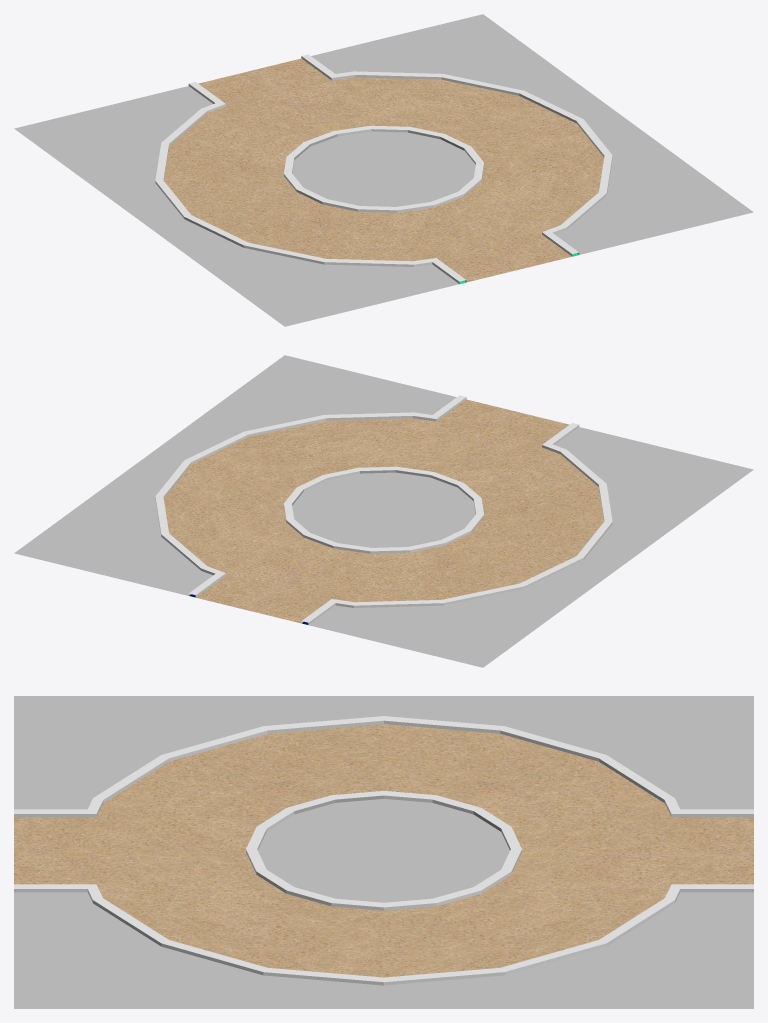
Rendered from Park-Straight_03.fbx.
The picture shows the model from 3 angles, top to bottom: view 1: azimuth 30°, elevation 25°; view 2: azimuth 150°, elevation 25°; view 3: azimuth 270°, elevation 25°; orthographic projection. The views are drawn at different scales.
Parts seen in each view (by area): view 1: _T_Park_StarightBG_03; view 2: _T_Park_StarightBG_03; view 3: _T_Park_StarightBG_03.
Part boxes in pixels (x1,y1,x2,y2): _T_Park_StarightBG_03: (14,14,753,326); _T_Park_StarightBG_03: (14,355,753,667); _T_Park_StarightBG_03: (14,696,753,1008).
Size of the model in its own units: 2000 by 10 by 2000.
